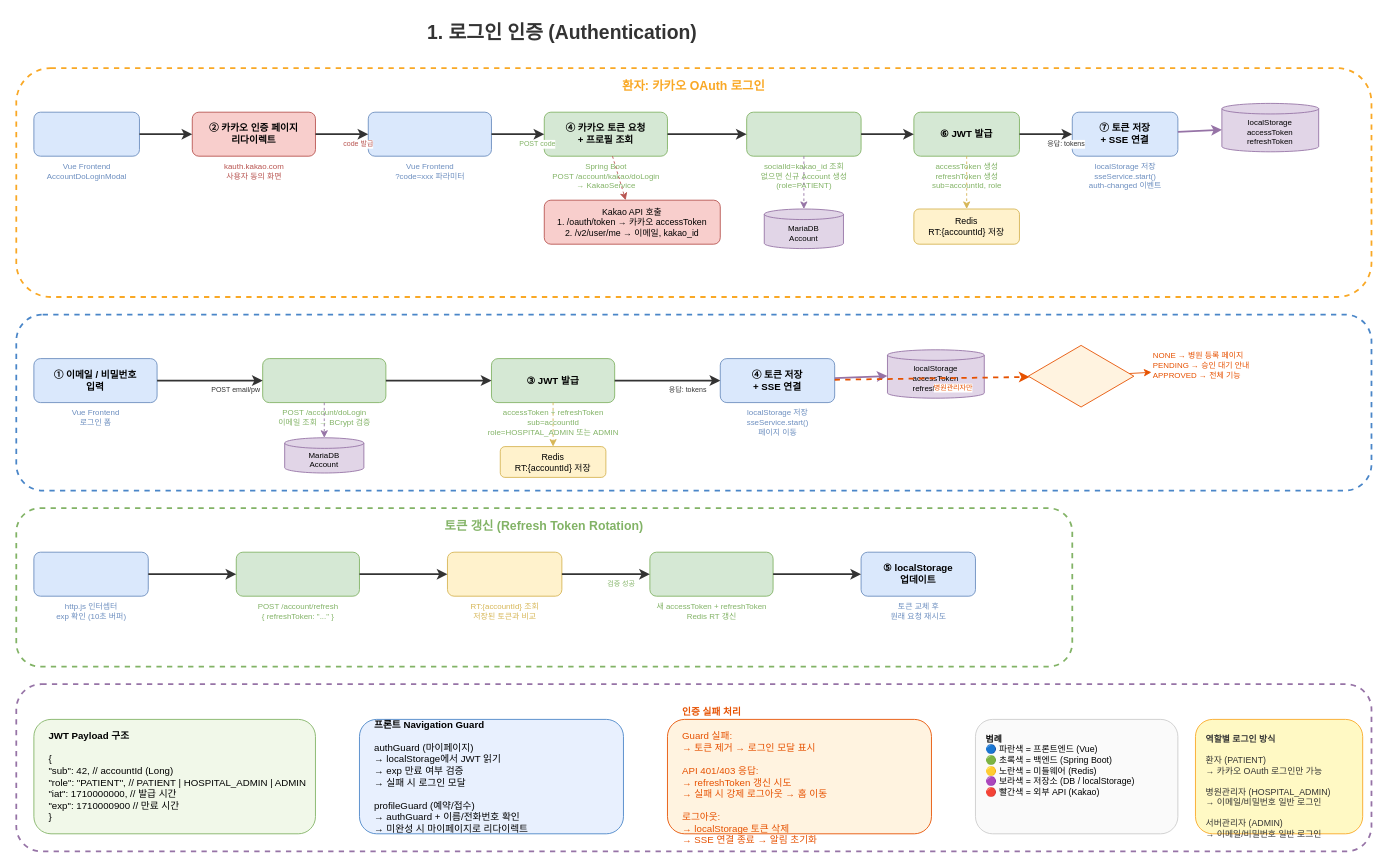
Image size: 1387x867. Some labels were removed from this diagram. The shapes that lost their labels are listed below. From the top down, each one's box as (x1, y1, x2, y2) in pixels, then its label:
(33, 111, 139, 156): ① 카카오 로그인 버튼 클릭
(367, 111, 491, 156): ③ 인증 코드 수신 (redirect callback)
(746, 111, 861, 156): ⑤ 계정 조회/생성
(262, 358, 386, 403): ② 인증 처리
(1027, 345, 1134, 407): hospital_status 확인
(15, 313, 1372, 491): 병원관리자 / 서버관리자: 일반 로그인 (이메일 + 비밀번호)
(33, 551, 148, 596): ① accessToken 만료 감지
(235, 551, 359, 596): ② refreshToken 갱신 요청
(447, 551, 562, 596): ③ Redis 검증
(649, 551, 773, 596): ④ 새 토큰 쌍 발급 (Rotation)
(15, 683, 1372, 852): JWT 구조 & 프론트 Guard 연동
